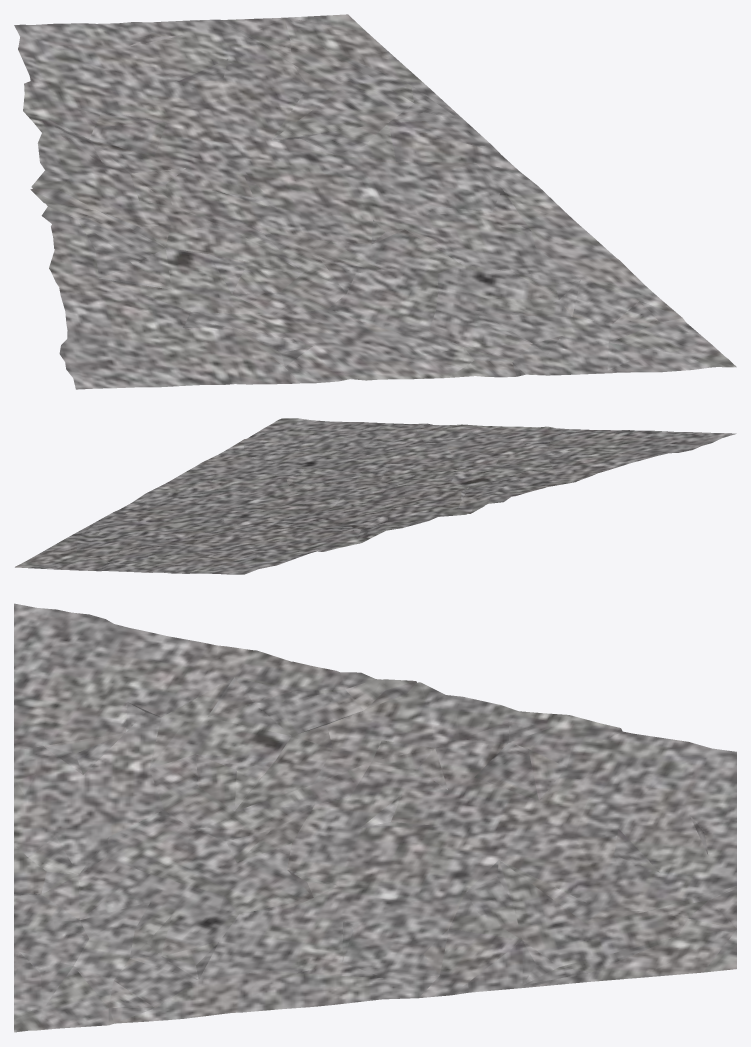
The picture shows the model from 3 angles, top to bottom: view 1: azimuth 30°, elevation 25°; view 2: azimuth 150°, elevation 25°; view 3: azimuth 270°, elevation 25°; orthographic projection. The views are drawn at different scales.
Bounding box in the file's own units: 0.8217 × 0.1651 × 0.8373.
2 materials, 2 textured.
